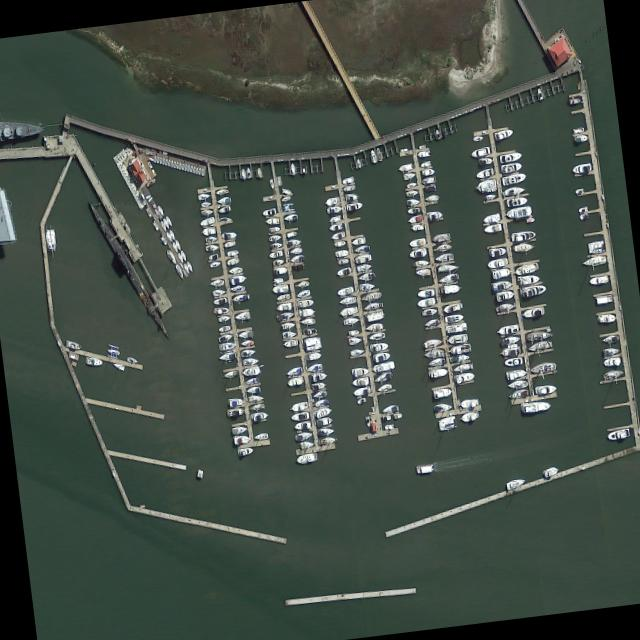ship: (86, 196, 172, 340), (519, 282, 547, 296), (504, 203, 532, 217), (513, 261, 539, 275), (520, 399, 550, 411), (530, 360, 557, 373), (504, 474, 527, 489), (501, 170, 527, 183), (526, 338, 552, 351), (606, 426, 631, 439), (303, 334, 322, 350), (438, 414, 457, 430), (510, 229, 535, 241), (516, 272, 541, 284), (527, 328, 552, 340), (540, 463, 560, 478), (476, 177, 497, 191), (521, 305, 545, 317), (372, 359, 395, 371), (582, 254, 607, 265), (296, 450, 318, 462), (506, 194, 528, 206), (449, 341, 471, 353), (440, 281, 462, 293), (45, 226, 55, 252), (499, 150, 522, 161), (501, 160, 522, 172), (470, 144, 491, 156), (487, 255, 508, 267), (459, 395, 480, 407), (499, 344, 521, 355), (460, 409, 480, 421), (506, 366, 526, 378), (571, 161, 591, 173), (447, 320, 467, 332), (428, 365, 448, 377), (454, 370, 474, 382), (587, 239, 605, 252), (498, 322, 519, 333), (507, 378, 528, 389), (535, 382, 556, 393), (414, 462, 435, 473), (361, 289, 382, 300), (442, 301, 463, 312), (289, 399, 308, 411), (408, 246, 427, 258), (483, 221, 502, 233), (491, 266, 510, 278), (434, 400, 453, 412), (494, 128, 514, 139), (503, 354, 523, 365), (513, 241, 535, 251), (500, 333, 520, 344), (603, 367, 623, 378), (589, 273, 609, 284), (434, 251, 454, 262), (438, 271, 460, 281), (448, 332, 468, 343), (366, 309, 384, 321), (508, 387, 529, 397), (438, 261, 459, 271), (242, 364, 261, 375), (166, 246, 177, 265), (597, 311, 616, 322), (432, 386, 451, 397), (444, 311, 463, 322), (287, 374, 304, 386), (504, 184, 524, 194), (492, 279, 512, 289), (424, 347, 444, 357), (369, 340, 389, 350), (431, 231, 451, 241), (450, 351, 470, 361), (249, 409, 267, 420), (218, 350, 236, 361), (296, 296, 314, 307), (174, 262, 185, 280), (476, 166, 494, 177), (603, 355, 621, 366), (353, 384, 371, 395), (372, 350, 390, 361), (424, 336, 442, 347), (106, 343, 120, 357), (495, 289, 514, 299), (417, 296, 436, 306), (316, 414, 333, 425), (295, 429, 312, 440), (227, 405, 244, 416), (483, 211, 500, 222), (291, 410, 309, 420), (319, 434, 337, 444), (314, 406, 332, 416), (452, 361, 470, 371), (408, 236, 426, 246), (595, 293, 613, 303), (602, 345, 620, 355), (374, 370, 392, 380), (364, 300, 382, 310), (358, 270, 376, 280), (354, 252, 372, 262), (242, 355, 258, 366), (416, 287, 435, 296), (339, 305, 358, 314), (286, 365, 303, 375), (276, 301, 293, 311), (298, 306, 315, 316), (310, 370, 327, 380), (85, 355, 102, 365), (218, 340, 235, 350), (232, 433, 249, 443), (428, 356, 445, 366), (337, 284, 354, 294), (352, 375, 369, 385), (346, 200, 363, 210), (421, 306, 438, 316), (325, 194, 340, 205), (293, 419, 311, 428), (199, 215, 215, 225), (240, 346, 256, 356), (283, 337, 299, 347), (307, 361, 323, 371), (289, 252, 305, 262), (230, 273, 246, 283), (65, 339, 81, 349), (237, 445, 253, 455), (343, 314, 359, 324), (339, 295, 356, 304), (382, 403, 399, 412), (368, 330, 385, 339), (366, 321, 383, 330), (351, 366, 368, 375), (201, 225, 216, 235), (573, 132, 588, 142), (377, 381, 392, 391), (326, 203, 341, 213), (424, 316, 439, 326), (238, 328, 254, 337), (313, 397, 329, 406), (272, 283, 288, 292), (231, 424, 247, 433), (227, 396, 243, 405), (489, 246, 505, 255), (602, 333, 618, 342), (354, 243, 370, 252), (434, 242, 452, 250), (427, 209, 443, 218), (226, 255, 240, 265), (282, 328, 296, 338), (218, 331, 232, 341), (205, 242, 219, 252), (331, 229, 345, 239), (348, 334, 362, 344), (317, 426, 334, 434), (230, 283, 245, 292), (216, 194, 231, 203), (250, 401, 265, 410), (239, 337, 254, 346), (223, 368, 238, 377), (312, 388, 327, 397), (306, 350, 321, 359), (268, 248, 283, 257), (222, 229, 237, 238), (212, 287, 227, 296), (336, 265, 351, 274), (357, 261, 372, 270), (351, 235, 366, 244), (407, 213, 422, 222), (300, 316, 316, 324), (497, 302, 513, 310), (359, 281, 375, 289), (416, 148, 432, 156), (281, 320, 295, 329), (279, 310, 293, 319), (273, 265, 287, 274), (262, 206, 276, 215), (265, 215, 279, 224), (214, 305, 228, 314), (345, 191, 359, 200), (350, 346, 364, 355), (145, 176, 156, 187), (233, 292, 248, 300), (248, 393, 263, 401), (253, 431, 268, 439), (246, 384, 261, 392), (235, 310, 250, 318), (422, 175, 437, 183), (398, 162, 413, 170), (414, 258, 429, 266), (287, 236, 300, 245), (197, 191, 210, 200), (200, 206, 213, 215), (164, 213, 173, 226), (228, 265, 242, 273), (215, 186, 229, 194), (210, 278, 224, 286), (276, 292, 290, 300), (289, 245, 303, 253), (284, 212, 298, 220), (299, 439, 313, 447), (478, 156, 492, 164), (329, 221, 343, 229), (410, 221, 424, 229), (341, 175, 355, 183), (283, 201, 294, 211), (113, 360, 124, 370), (244, 376, 259, 383), (302, 326, 317, 333), (311, 381, 326, 388), (218, 204, 231, 212), (218, 323, 231, 331), (292, 261, 305, 269), (186, 258, 194, 271), (217, 313, 230, 321), (182, 261, 190, 274), (162, 216, 170, 229), (165, 229, 173, 242), (174, 237, 182, 250), (329, 213, 342, 221), (335, 248, 348, 256), (424, 183, 437, 191), (126, 354, 137, 363), (370, 148, 377, 162), (375, 146, 382, 160), (425, 193, 439, 200), (270, 240, 282, 248), (179, 248, 187, 260), (176, 250, 184, 262), (209, 259, 221, 267), (157, 203, 165, 215), (160, 219, 168, 231), (168, 227, 176, 239), (572, 125, 584, 133), (333, 238, 345, 246), (226, 248, 239, 255), (269, 233, 282, 240), (204, 234, 217, 241), (536, 86, 543, 99), (419, 159, 432, 166), (422, 167, 435, 174), (343, 183, 356, 190), (407, 205, 420, 212), (406, 188, 419, 195), (406, 197, 419, 204), (415, 268, 430, 274), (273, 257, 284, 265), (338, 256, 349, 264), (406, 179, 417, 187), (224, 239, 236, 246), (207, 252, 219, 259), (200, 199, 212, 206), (145, 205, 152, 217), (171, 240, 178, 252), (568, 96, 580, 103), (403, 171, 415, 178), (357, 395, 366, 404), (219, 215, 232, 221), (286, 229, 297, 236), (160, 234, 167, 245), (485, 192, 496, 199), (578, 204, 589, 211), (348, 327, 359, 334), (152, 219, 159, 229), (525, 215, 535, 222), (473, 133, 483, 140), (579, 212, 589, 219), (574, 186, 584, 193), (269, 225, 280, 231), (440, 125, 446, 136), (246, 165, 251, 178), (290, 161, 295, 174), (393, 411, 402, 418), (382, 413, 391, 420), (241, 166, 246, 178), (257, 166, 262, 178), (281, 187, 291, 193), (281, 194, 291, 200), (384, 422, 394, 428), (365, 414, 370, 426), (435, 128, 441, 137), (269, 177, 274, 187), (138, 202, 145, 209), (147, 194, 154, 201), (418, 142, 426, 148), (356, 157, 361, 166), (273, 277, 283, 281), (151, 167, 156, 175), (118, 150, 123, 157), (126, 147, 131, 154), (147, 160, 152, 167), (114, 154, 119, 161), (182, 268, 187, 275), (154, 207, 159, 214), (164, 156, 168, 164), (178, 161, 182, 169), (181, 161, 185, 169), (183, 162, 187, 170), (189, 164, 193, 172), (186, 163, 190, 171), (192, 164, 196, 172), (130, 187, 135, 193), (121, 149, 125, 156), (161, 156, 165, 163), (179, 261, 183, 268), (469, 361, 473, 368), (133, 193, 138, 198), (136, 199, 141, 204), (135, 196, 140, 201), (126, 179, 131, 184), (146, 193, 151, 198), (546, 326, 551, 331), (125, 145, 129, 151), (167, 157, 170, 165), (170, 158, 173, 166), (173, 159, 176, 167), (116, 152, 120, 158), (195, 165, 198, 173), (198, 166, 201, 174), (201, 167, 204, 175), (159, 155, 162, 162), (156, 155, 159, 162), (176, 160, 179, 167), (260, 362, 264, 367), (117, 162, 121, 167), (129, 185, 133, 190), (128, 182, 132, 187), (123, 173, 127, 178), (121, 171, 126, 175), (120, 168, 124, 173), (153, 155, 156, 161), (277, 178, 281, 182), (132, 191, 136, 195), (125, 177, 129, 181), (119, 165, 122, 170), (371, 405, 374, 410), (278, 181, 281, 185), (277, 176, 281, 179)
